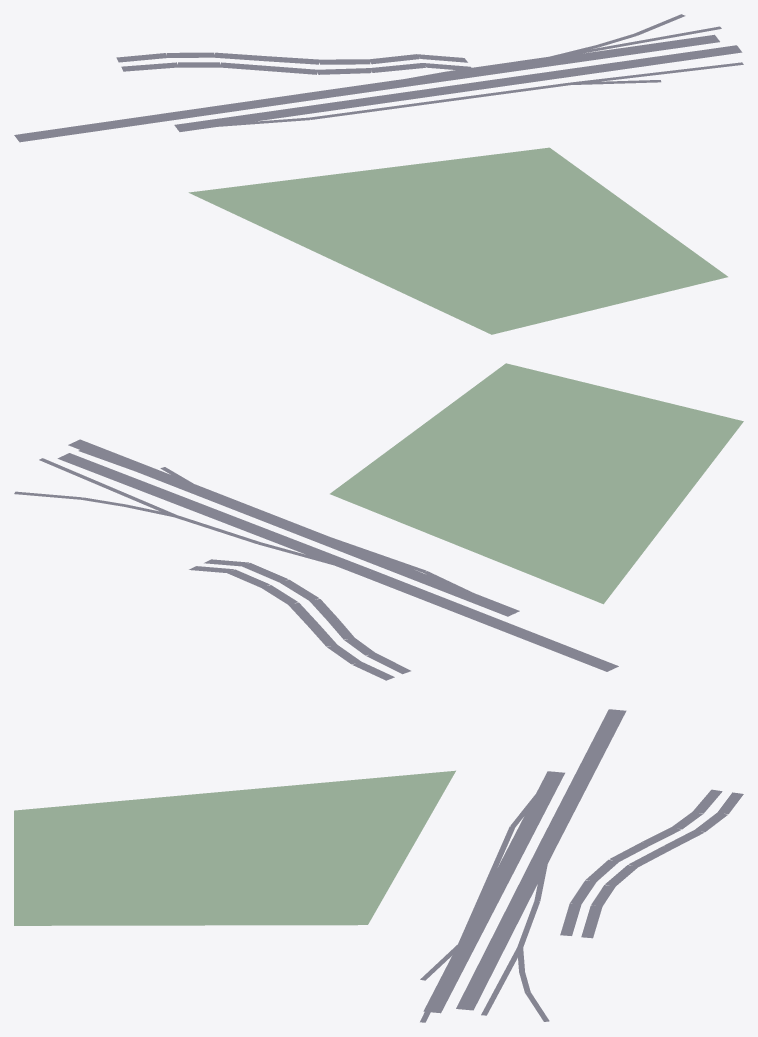
File: 137_103_mid.glb
3 views of the same model, one above another, from view 1: azimuth 30°, elevation 25°; view 2: azimuth 150°, elevation 25°; view 3: azimuth 270°, elevation 25° (orthographic).
Bounding box in the file's own units: 426 × 13.64 × 422.
